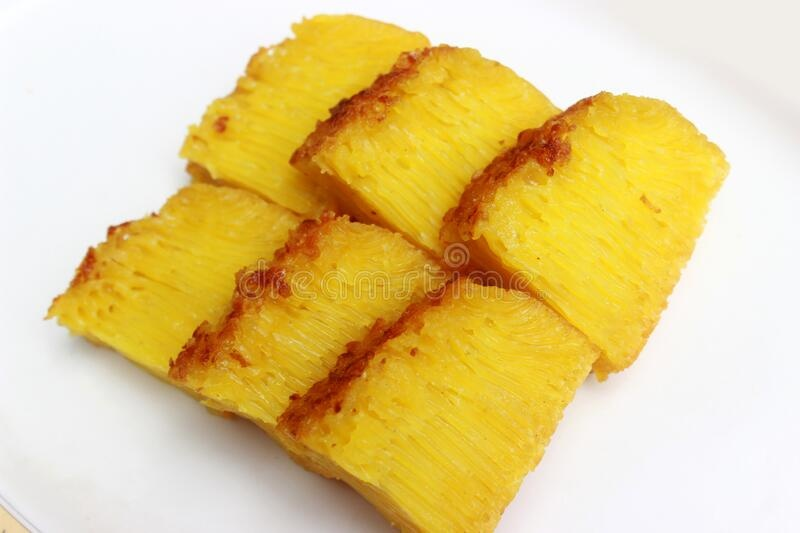bika_ambon: (454, 63, 742, 374), (313, 291, 545, 524)
